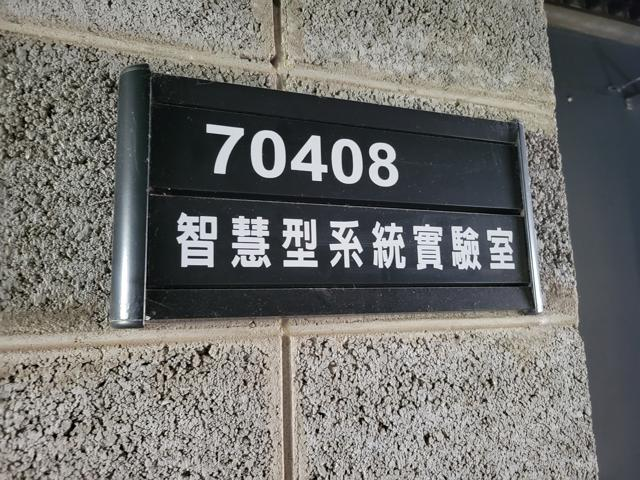doorplate: (99, 52, 552, 341)
